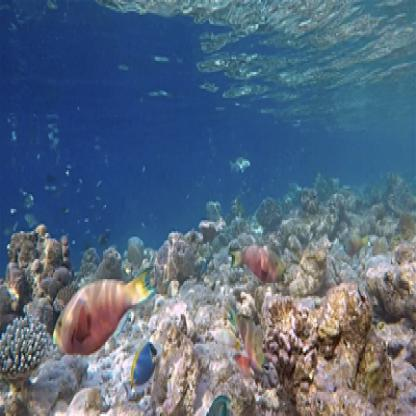Acanthuridae -Surgeonfishes-: (121, 341, 174, 404)
Scaridae -Parrotfishes-: (50, 247, 153, 367), (223, 299, 280, 378), (227, 230, 289, 295)
